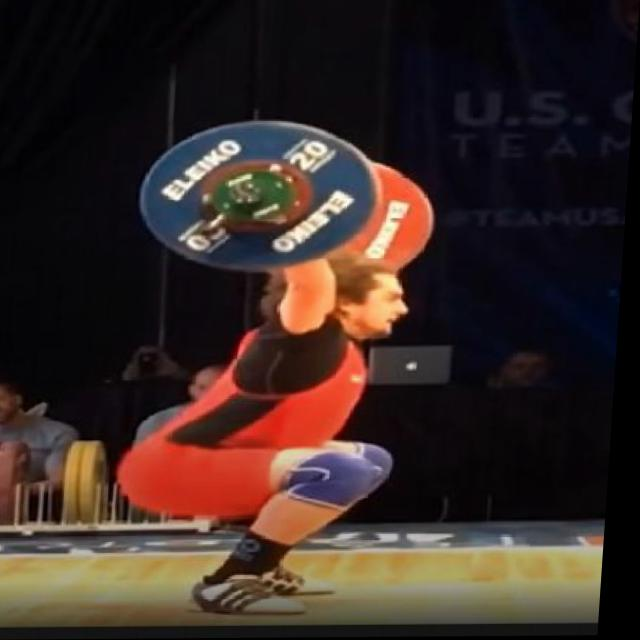barbell: (134, 115, 391, 277)
